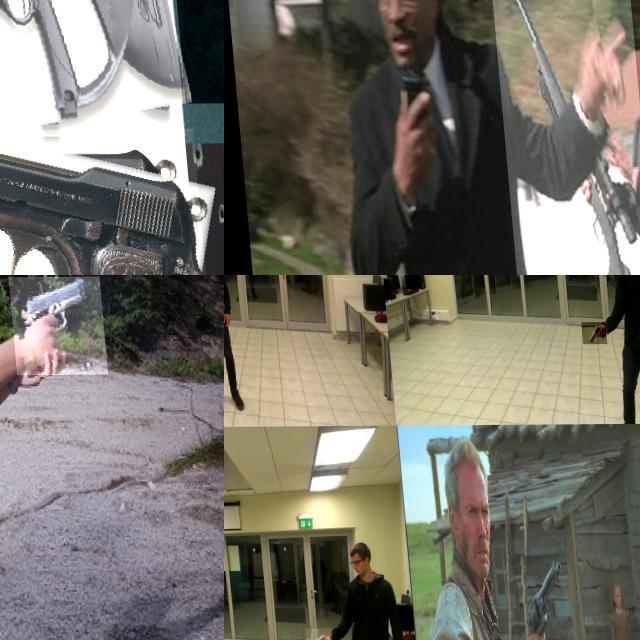gun-knife-thesis - v11 Yolov5 augmented: (481, 0, 640, 275), (0, 129, 210, 275), (0, 0, 179, 155), (4, 278, 102, 377), (502, 555, 562, 640), (578, 323, 604, 345), (295, 628, 322, 640), (224, 302, 235, 325)
